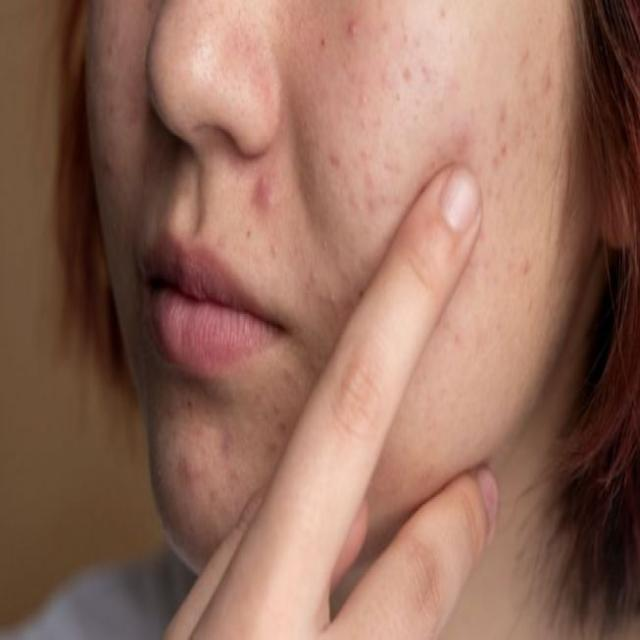oily: (152, 2, 266, 140)
